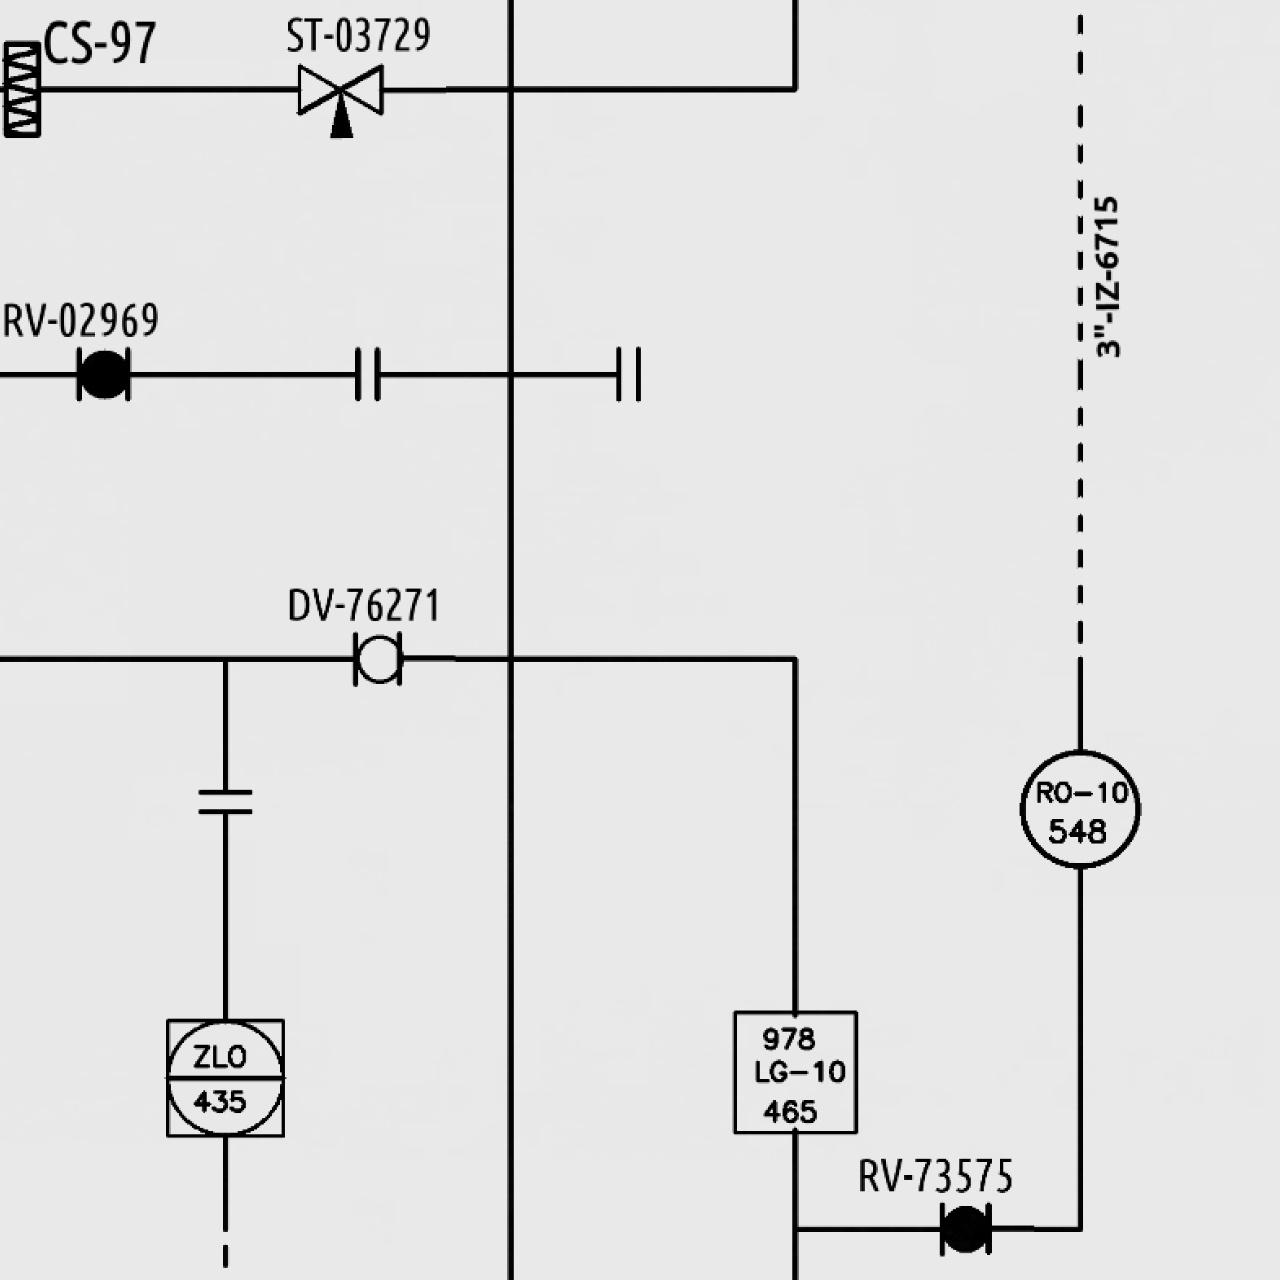Control-Panel: (1015, 744, 1144, 872)
